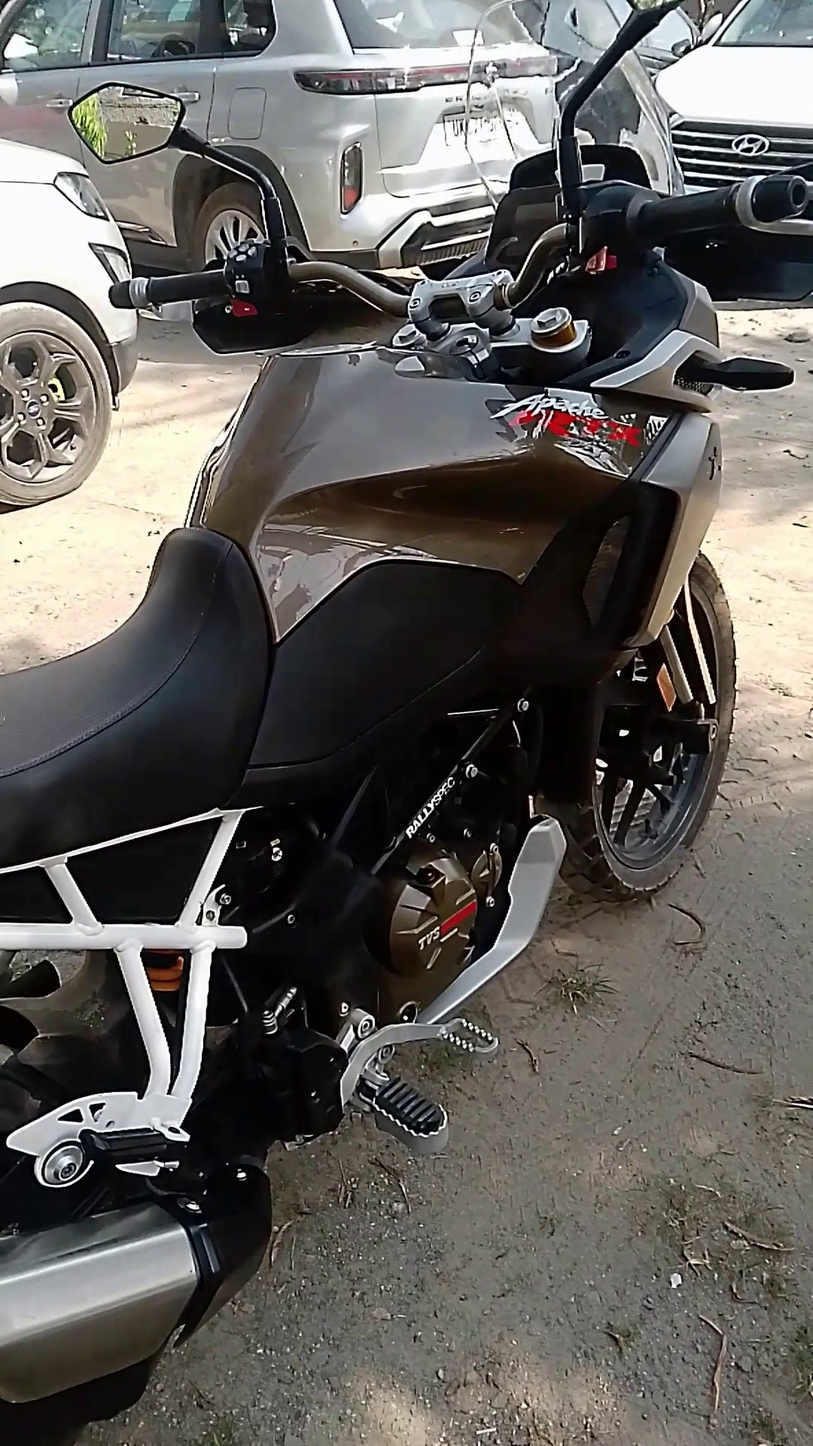engine: (361, 761, 516, 1054)
